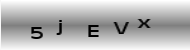5: (29, 26, 43, 40)
E: (86, 23, 100, 38)
V: (113, 20, 129, 35)
j: (55, 19, 63, 36)
x: (137, 17, 151, 29)
